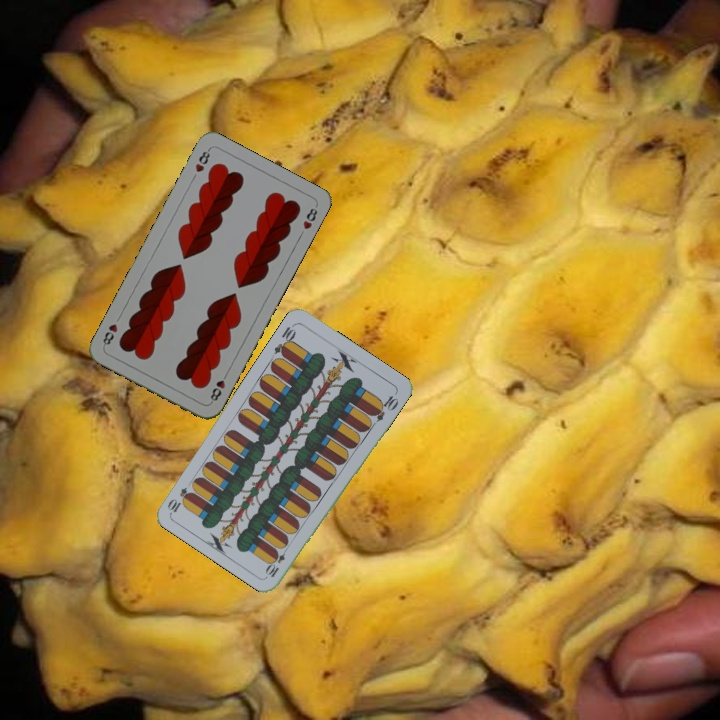E10: (270, 320, 299, 359), (263, 542, 291, 580)
H8: (206, 368, 231, 406), (191, 145, 213, 175)
